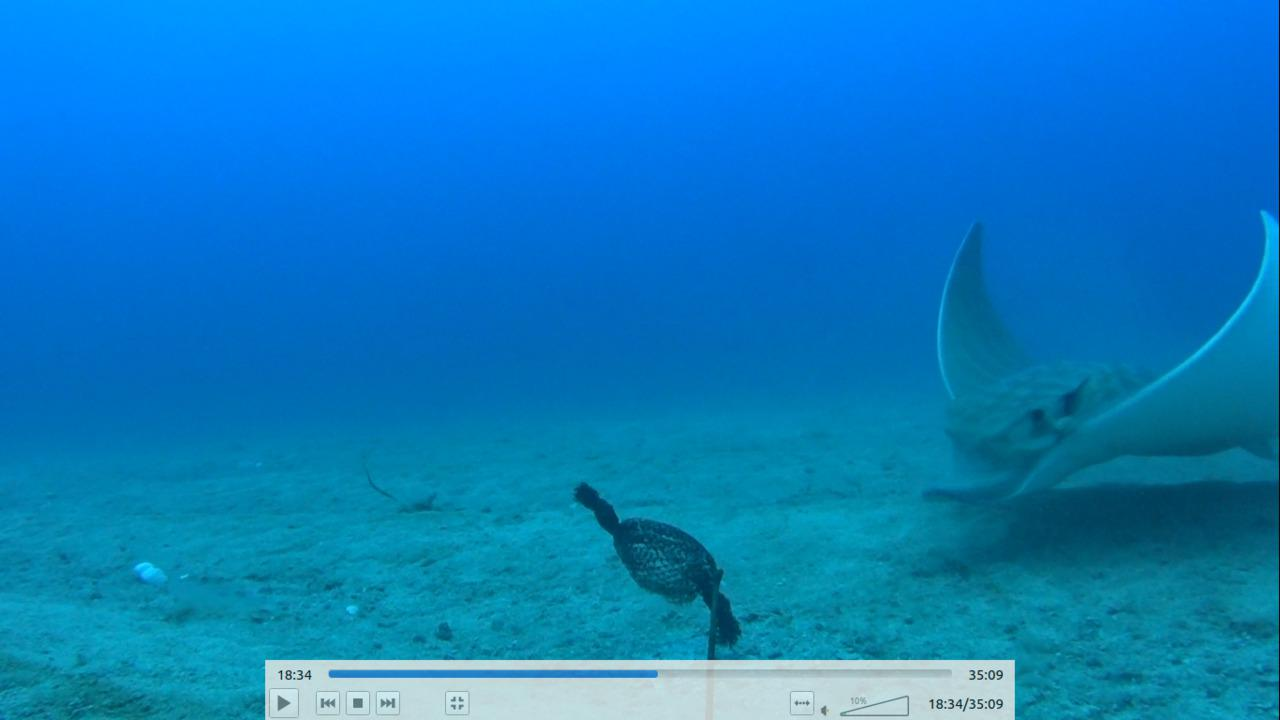myliobatis: (911, 202, 1279, 517)
